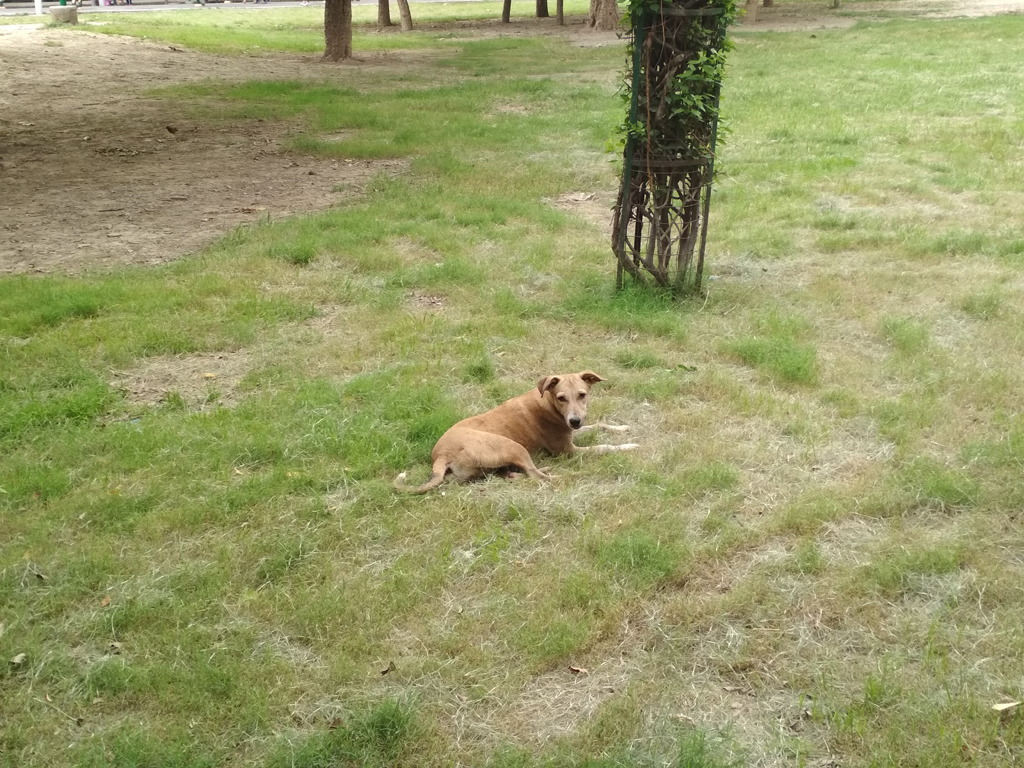dog: (392, 372, 640, 494)
